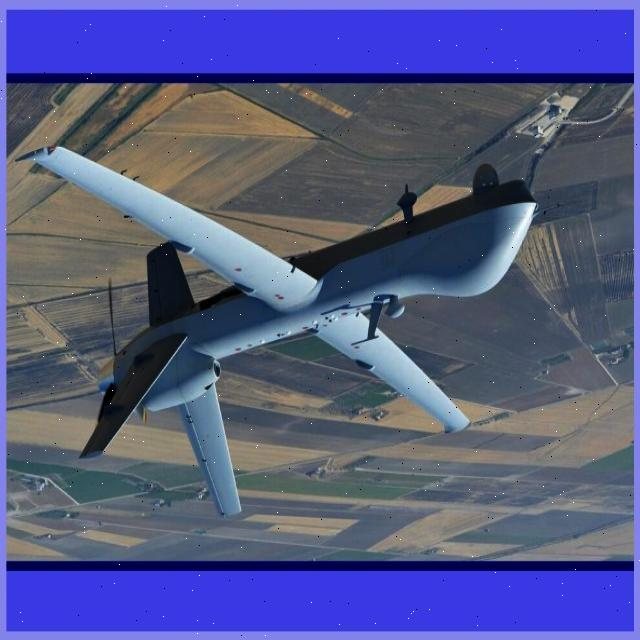MQ9: (0, 86, 569, 546)
